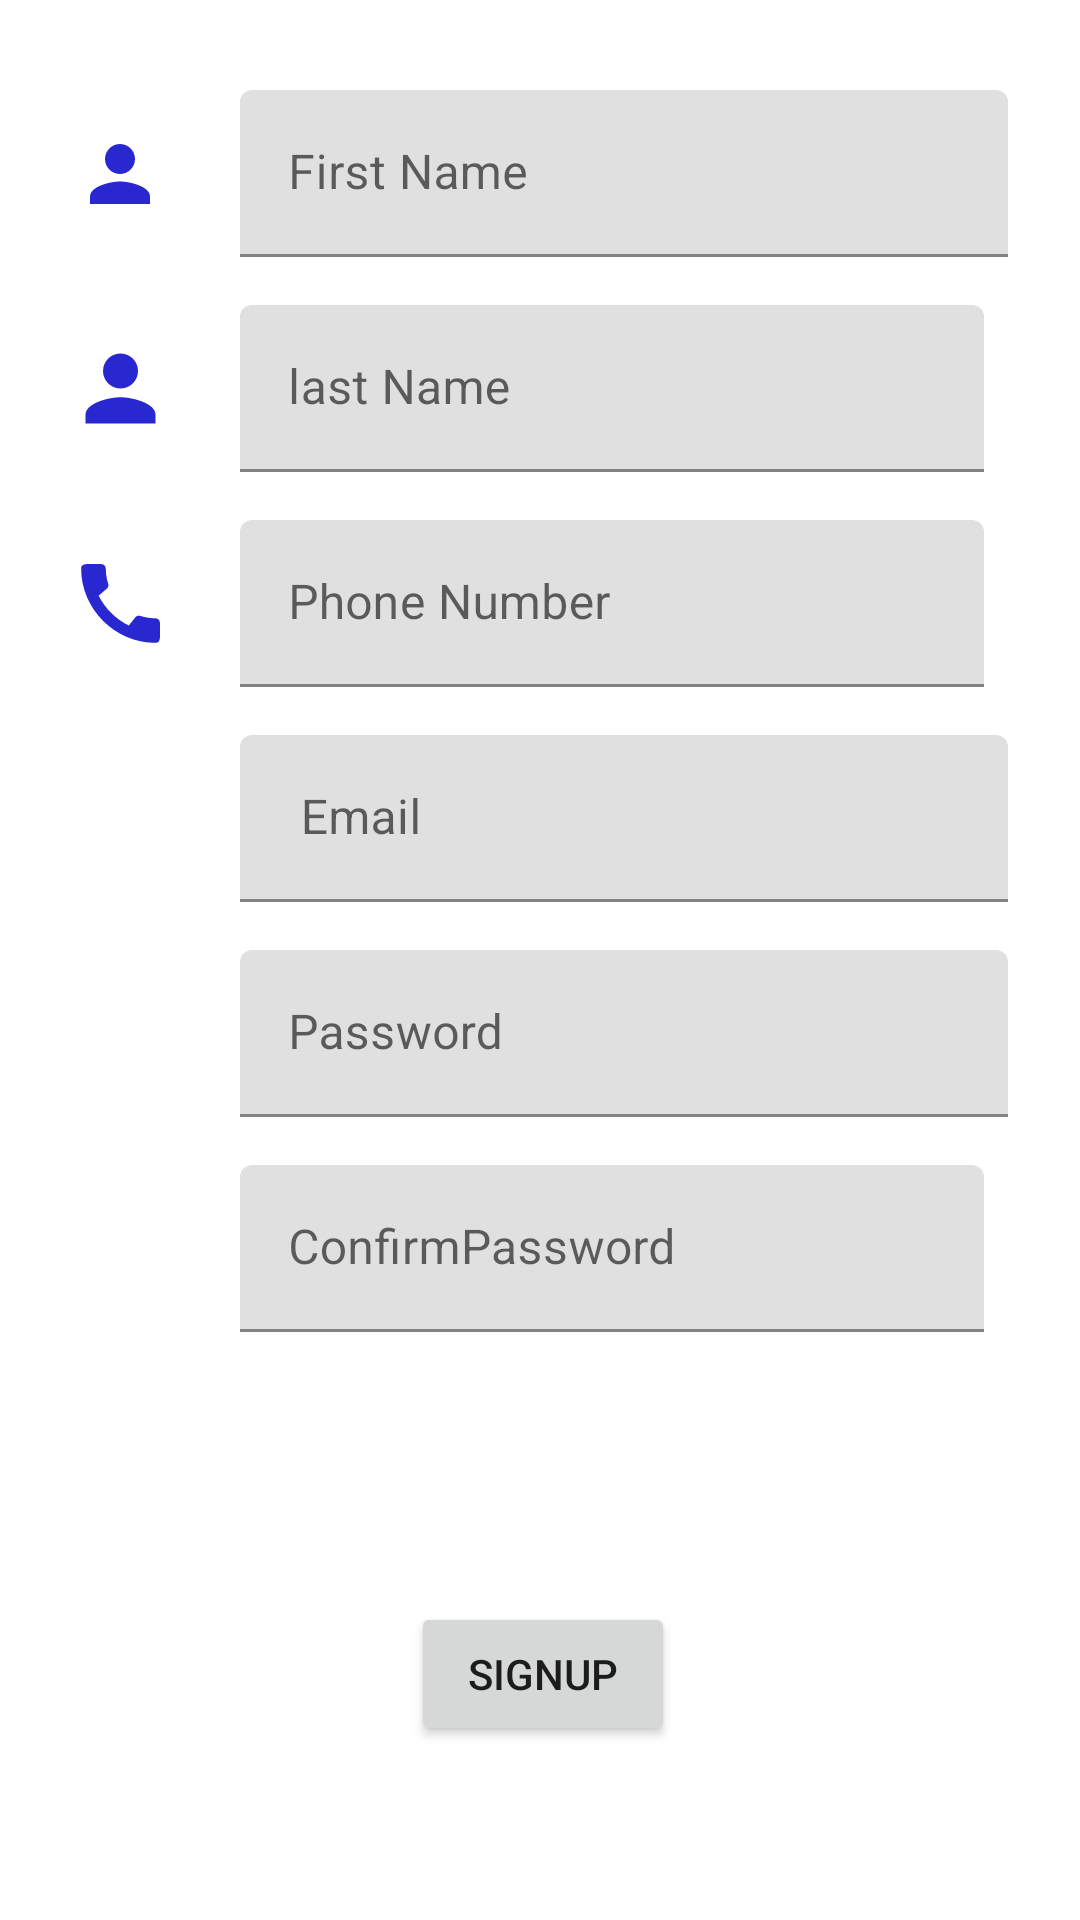

Where icons sit on this 1080x1920 app screen, as rect(x1, y1, x2, y2):
call: rect(81, 564, 160, 643)
person: rect(90, 144, 150, 204), rect(85, 353, 156, 424)
